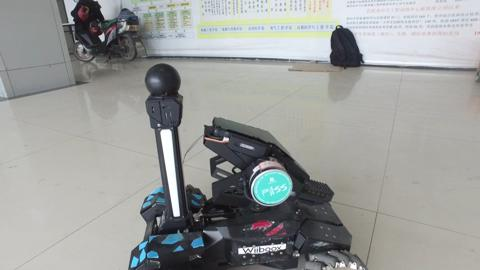bag: (311, 26, 363, 77)
chariot: (135, 84, 365, 256)
